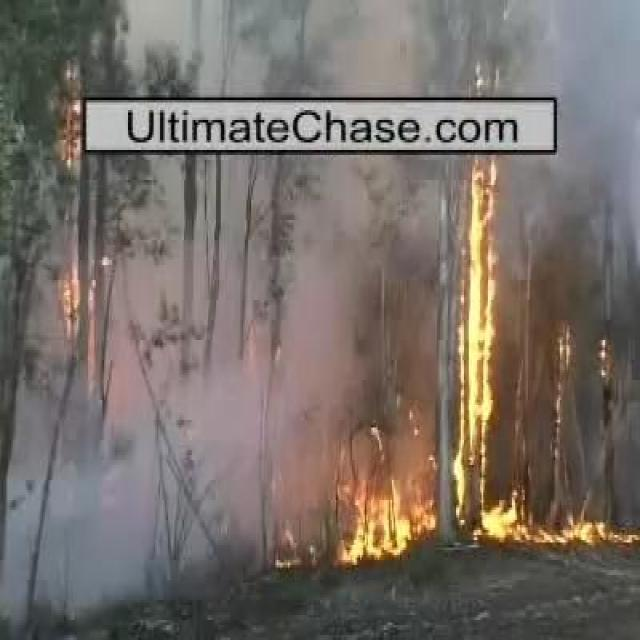Fire: (456, 166, 498, 514), (475, 491, 618, 549), (346, 493, 436, 565)
